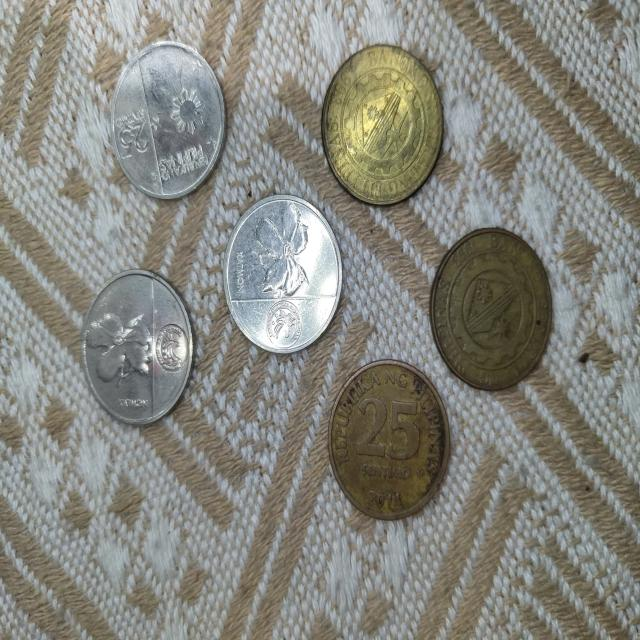25 cents: (110, 42, 227, 200), (223, 195, 340, 352), (80, 270, 194, 422)
25 cents-old: (316, 36, 450, 214), (430, 228, 555, 390), (326, 361, 446, 519)
